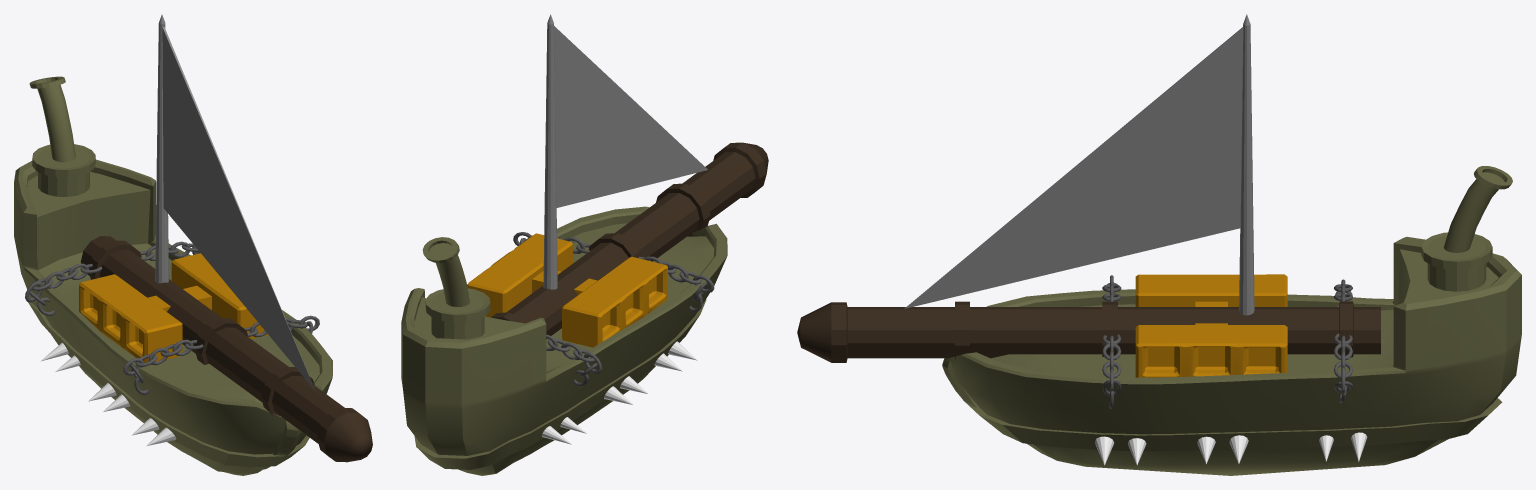
The model's file is barcodash.fbx.
The picture shows the model from 3 angles, left to right: view 1: azimuth 30°, elevation 25°; view 2: azimuth 150°, elevation 25°; view 3: azimuth 270°, elevation 25°; orthographic projection. The views are drawn at different scales.
Parts seen in each view (by area): view 1: pCylinder101, pCube11, pCylinder98, pCube12, pTorus13, pCylinder99, pCone7; view 2: pCylinder101, pCube11, pCylinder98, pCube12, pCylinder99, pTorus13, pCone7; view 3: pCylinder101, pCube11, pCylinder98, pCube12, pCylinder99, pTorus13, pCone7.
Part boxes in pixels (left/top/right/bottom): pCylinder101: left=14, top=76, right=332, bottom=475; pCube11: left=162, top=27, right=315, bottom=391; pCylinder98: left=80, top=236, right=372, bottom=462; pCube12: left=79, top=253, right=268, bottom=362; pTorus13: left=25, top=241, right=319, bottom=394; pCylinder99: left=155, top=14, right=168, bottom=283; pCone7: left=40, top=342, right=176, bottom=445; pCylinder101: left=401, top=206, right=727, bottom=475; pCube11: left=554, top=26, right=707, bottom=207; pCylinder98: left=491, top=142, right=768, bottom=339; pCube12: left=467, top=233, right=667, bottom=347; pCylinder99: left=543, top=14, right=557, bottom=289; pTorus13: left=513, top=232, right=714, bottom=386; pCone7: left=541, top=341, right=697, bottom=444; pCylinder101: left=942, top=166, right=1521, bottom=475; pCube11: left=904, top=27, right=1243, bottom=308; pCylinder98: left=797, top=301, right=1380, bottom=362; pCube12: left=1135, top=274, right=1287, bottom=377; pCylinder99: left=1239, top=14, right=1254, bottom=315; pTorus13: left=1102, top=275, right=1353, bottom=408; pCone7: left=1095, top=432, right=1367, bottom=465.
Size of the model in its own units: 4.56 by 9.22 by 13.09.
